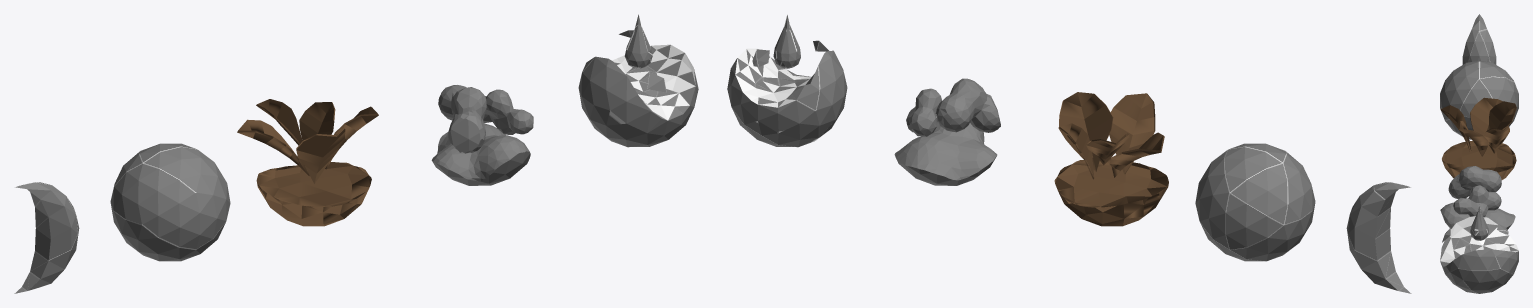
The model's file is elementos.fbx.
3 views of the same model, side by side, from view 1: azimuth 30°, elevation 25°; view 2: azimuth 150°, elevation 25°; view 3: azimuth 270°, elevation 25° (orthographic). The views are drawn at different scales.
Visible parts, largest first — view 1: sol, tierra, agua, nubes, luna; view 2: tierra, sol, agua, nubes, luna; view 3: agua, tierra, sol, nubes, luna.
Part boxes in pixels (bbox=[...]): sol: bbox=[110, 143, 230, 261]; tierra: bbox=[237, 99, 378, 226]; agua: bbox=[578, 14, 698, 147]; nubes: bbox=[431, 85, 533, 185]; luna: bbox=[14, 182, 79, 293]; tierra: bbox=[1054, 92, 1168, 226]; sol: bbox=[1195, 143, 1315, 261]; agua: bbox=[727, 15, 847, 147]; nubes: bbox=[894, 78, 1000, 185]; luna: bbox=[1346, 182, 1411, 293]; agua: bbox=[1440, 204, 1518, 293]; tierra: bbox=[1440, 97, 1516, 179]; sol: bbox=[1440, 61, 1518, 139]; nubes: bbox=[1440, 166, 1515, 229]; luna: bbox=[1462, 14, 1496, 64].
Bounding box in the file's own units: 1297 × 234 × 196.
Materials: 5 (3 with a texture image).
